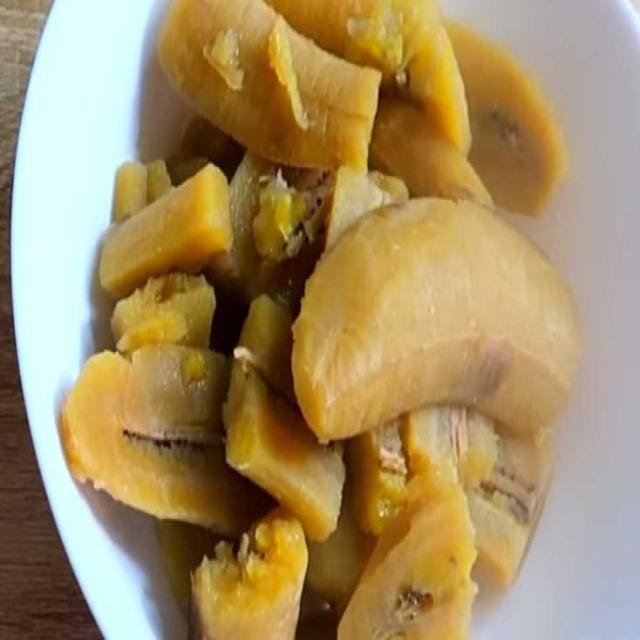platano: (291, 164, 574, 474)
